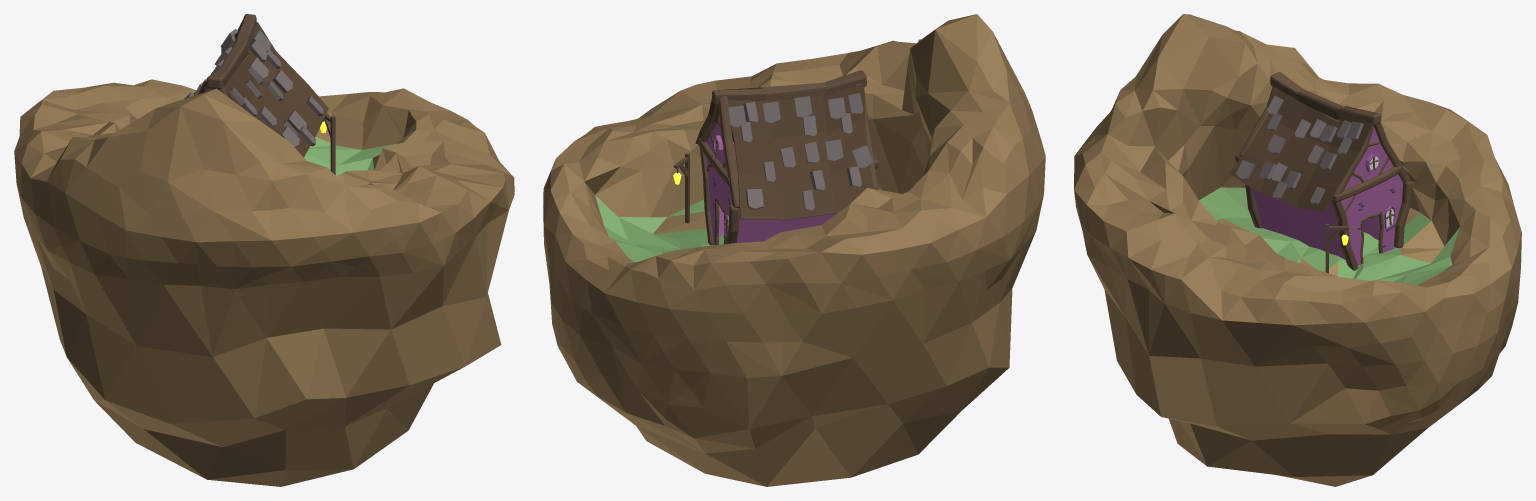
The model's file is SHACKISLAND.fbx.
3 renders of one model, left to right at view 1: azimuth 30°, elevation 25°; view 2: azimuth 150°, elevation 25°; view 3: azimuth 270°, elevation 25°, orthographic. The views are drawn at different scales.
Parts seen in each view (by area): view 1: Island 2, Plane.001, Cube.024; view 2: Island 2, Plane.003, Cube.024, Plane.004, Plane.005, Cube.003, Cube.001; view 3: Island 2, Plane.001, Plane.005, Plane.010, Cube.024, Cube, Cube.001, Cube.002, Cube.003.
Part boxes in pixels (x1=…): Island 2: x1=14, y1=79, x2=514, y2=486; Plane.001: x1=224, y1=22, x2=328, y2=157; Cube.024: x1=206, y1=14, x2=256, y2=89; Island 2: x1=543, y1=14, x2=1045, y2=486; Plane.003: x1=728, y1=84, x2=873, y2=220; Cube.024: x1=712, y1=70, x2=866, y2=104; Plane.004: x1=736, y1=209, x2=836, y2=242; Plane.005: x1=706, y1=115, x2=731, y2=244; Cube.003: x1=718, y1=96, x2=739, y2=207; Cube.001: x1=699, y1=147, x2=713, y2=245; Island 2: x1=1074, y1=14, x2=1521, y2=486; Plane.001: x1=1229, y1=89, x2=1372, y2=211; Plane.005: x1=1341, y1=127, x2=1402, y2=265; Plane.010: x1=1252, y1=188, x2=1345, y2=259; Cube.024: x1=1270, y1=72, x2=1380, y2=125; Cube: x1=1394, y1=181, x2=1412, y2=248; Cube.001: x1=1330, y1=199, x2=1358, y2=270; Cube.002: x1=1332, y1=165, x2=1401, y2=202; Cube.003: x1=1374, y1=122, x2=1410, y2=182.
Size of the model in its own units: 1971 by 1893 by 1935.
